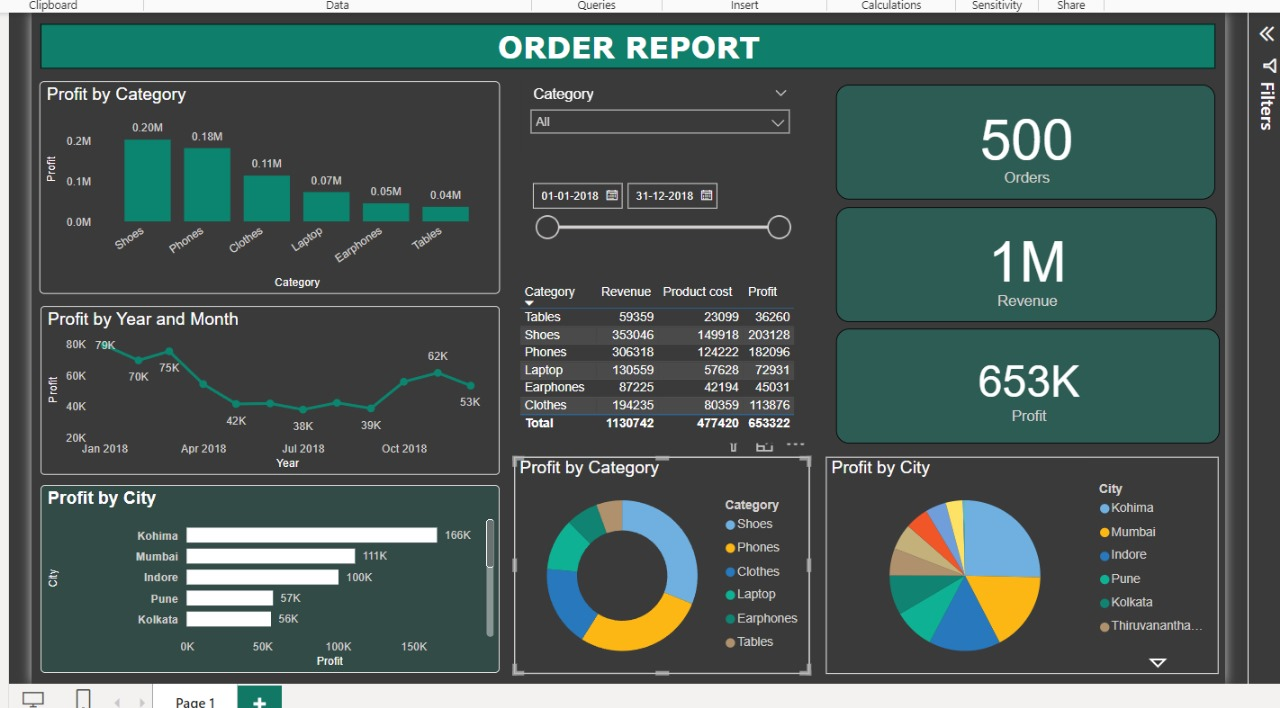

What the dashboard file says about the page in this screenshot:
{"tool":"powerbi","page":{"name":"Page 1","canvas":[1280,720],"ordinal":0},"visuals":[{"type":"textbox","box":[9.6,12.1,1259.1,48.2],"z":0},{"type":"card","fields":{"Values":["CountNonNull(Orders.Order ID)"]},"box":[517.4,74.8,232.8,109.7],"z":1000},{"type":"card","fields":{"Values":["Sum(Orders.order_total)"]},"box":[759.8,76,235.2,109.7],"z":2000},{"type":"card","fields":{"Values":["Sum(Orders.Profit)"]},"box":[1014.3,77.2,235.2,108.5],"z":3000},{"type":"lineChart","fields":{"Category":["Orders.Order Date.Variation.Date Hierarchy.Year","Orders.Order Date.Variation.Date Hierarchy.Month"],"Y":["Sum(Orders.Profit)"]},"box":[9.6,314.8,492.1,180.9],"z":4000},{"type":"clusteredBarChart","fields":{"Category":["Orders.City"],"Y":["Sum(Orders.Profit)"]},"box":[9.6,506.5,492.1,201.4],"z":5000},{"type":"clusteredColumnChart","fields":{"Category":["Orders.Category"],"Y":["Sum(Orders.Profit)"]},"box":[8.4,73.6,493.3,227.9],"z":6000},{"type":"pieChart","fields":{"Y":["Sum(Orders.Profit)"],"Category":["Orders.City"]},"box":[851.5,476.4,420.9,232.8],"z":7000},{"type":"donutChart","fields":{"Y":["Sum(Orders.Profit)"],"Category":["Orders.Category"]},"box":[517.4,476.4,317.2,232.8],"z":8000},{"type":"tableEx","fields":{"Values":["Orders.Category","Sum(Orders.order_total)","Sum(Orders.Product cost)","Sum(Orders.Profit)"]},"box":[517.4,285.8,317.2,176.1],"z":9000},{"type":"slicer","fields":{"Values":["Orders.Order Date"]},"box":[524.6,189.3,297.9,80.8],"z":9001},{"type":"slicer","fields":{"Values":["Orders.City"]},"box":[878,207.4,383.5,78.4],"z":9002},{"type":"slicer","fields":{"Values":["Orders.Category"]},"box":[878,295.5,383.5,78.4],"z":9003},{"type":"slicer","fields":{"Values":["Orders.State"]},"box":[878,383.5,383.5,78.4],"z":9004}]}

Visuals, with their boxes in screenshot pixels (x1, y1, x2, y2):
textbox: 6/5/1225/52
card - CountNonNull(Orders.Order ID): 497/66/723/172
card - Sum(Orders.order_total): 732/67/960/173
card - Sum(Orders.Profit): 978/68/1206/173
lineChart - Orders.Order Date.Variation.Date Hierarchy.Year x Orders.Order Date.Variation.Date Hierarchy.Month: 6/298/482/473
clusteredBarChart - Orders.City x Sum(Orders.Profit): 6/484/482/679
clusteredColumnChart - Orders.Category x Sum(Orders.Profit): 5/65/482/285
pieChart - Sum(Orders.Profit) x Orders.City: 821/454/1228/680
donutChart - Sum(Orders.Profit) x Orders.Category: 497/454/804/680
tableEx - Orders.Category x Sum(Orders.order_total): 497/270/804/440
slicer - Orders.Order Date: 504/177/793/255
slicer - Orders.City: 846/194/1218/270
slicer - Orders.Category: 846/279/1218/355
slicer - Orders.State: 846/365/1218/440
